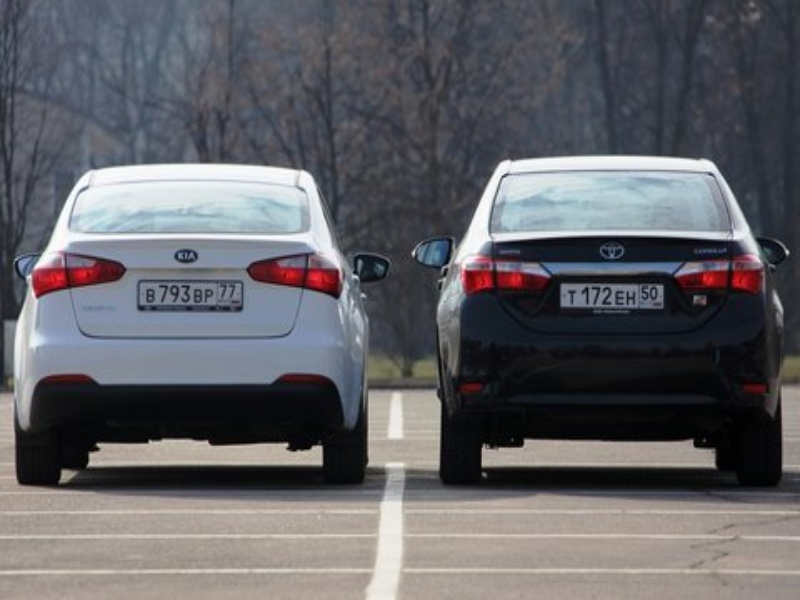car: (411, 158, 790, 485), (12, 164, 390, 490)
plate: (137, 280, 243, 312), (559, 283, 663, 311)
